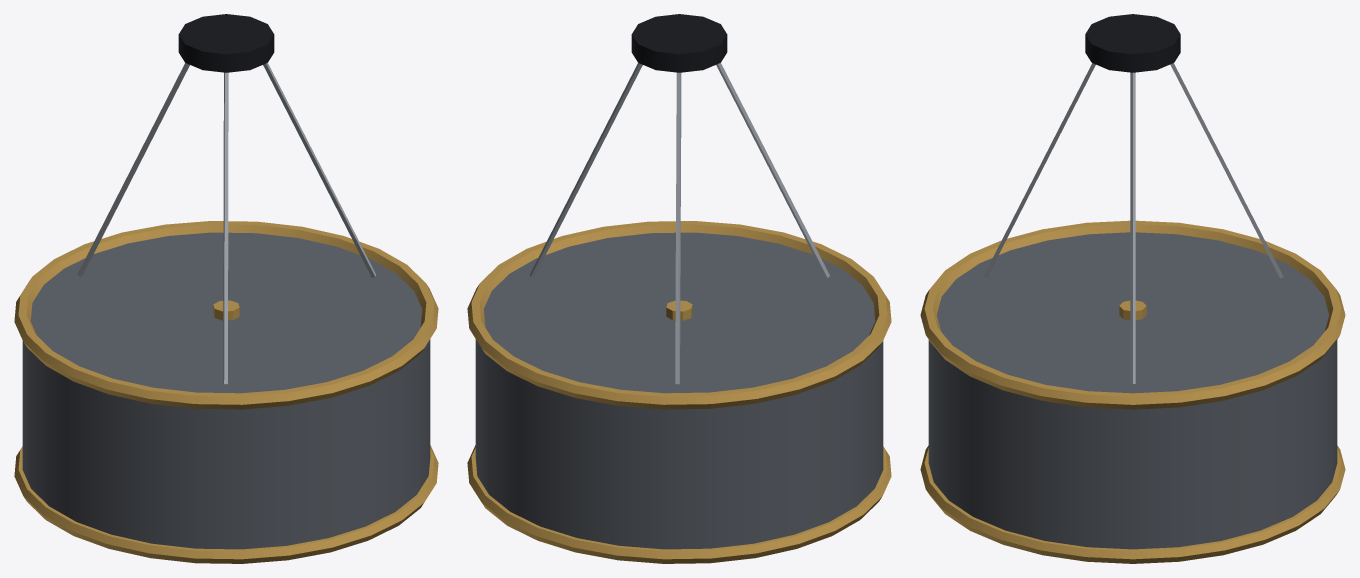
Rendered from ceilinglight_drum_pendant.glb.
3 views of the same model, side by side, from view 1: azimuth 30°, elevation 25°; view 2: azimuth 150°, elevation 25°; view 3: azimuth 270°, elevation 25° (orthographic).
Parts seen in each view (by area): view 1: ceilinglight_drum_pendant; view 2: ceilinglight_drum_pendant; view 3: ceilinglight_drum_pendant.
Part boxes in pixels (x1=…): ceilinglight_drum_pendant: x1=14, y1=14, x2=438, y2=563; ceilinglight_drum_pendant: x1=467, y1=14, x2=891, y2=563; ceilinglight_drum_pendant: x1=920, y1=14, x2=1345, y2=563.
Bounding box in the file's own units: 0.624 × 0.7154 × 0.624.
